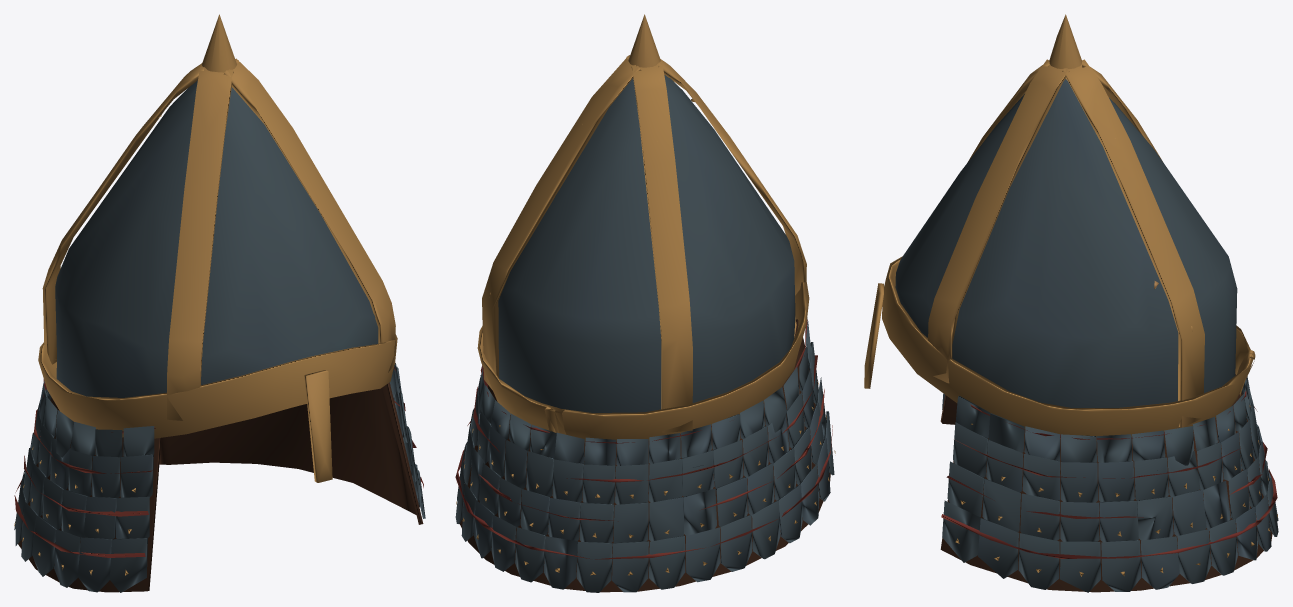
3 views of the same model, side by side, from view 1: azimuth 30°, elevation 25°; view 2: azimuth 150°, elevation 25°; view 3: azimuth 270°, elevation 25° (orthographic). The views are drawn at different scales.
Visible parts, largest first — view 1: blackened lamellar plate, quilted linen lining; view 2: blackened lamellar plate, quilted linen lining; view 3: blackened lamellar plate, quilted linen lining.
Boxes of the visible parts, <box> form: blackened lamellar plate: <box>14,14,425,592</box>; quilted linen lining: <box>14,367,423,592</box>; blackened lamellar plate: <box>455,14,835,592</box>; quilted linen lining: <box>455,319,832,592</box>; blackened lamellar plate: <box>864,14,1278,592</box>; quilted linen lining: <box>940,374,1277,592</box>.
Size of the model in its own units: 0.2608 by 0.3895 by 0.2846.
